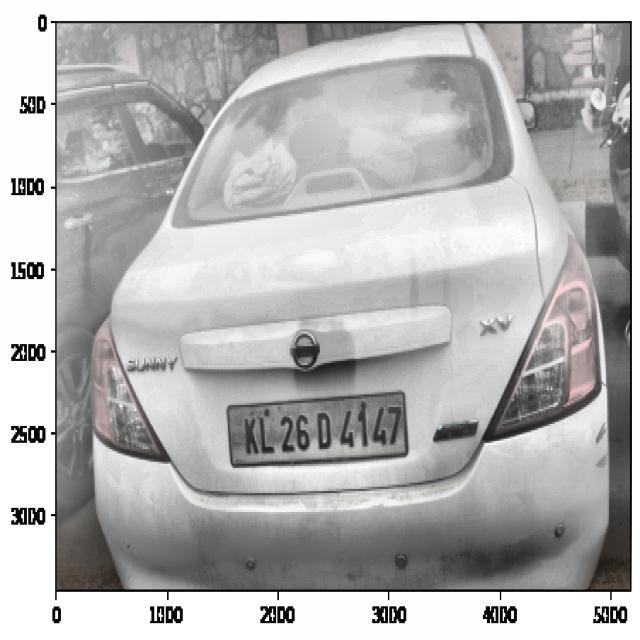license_plate: (236, 401, 409, 462)
